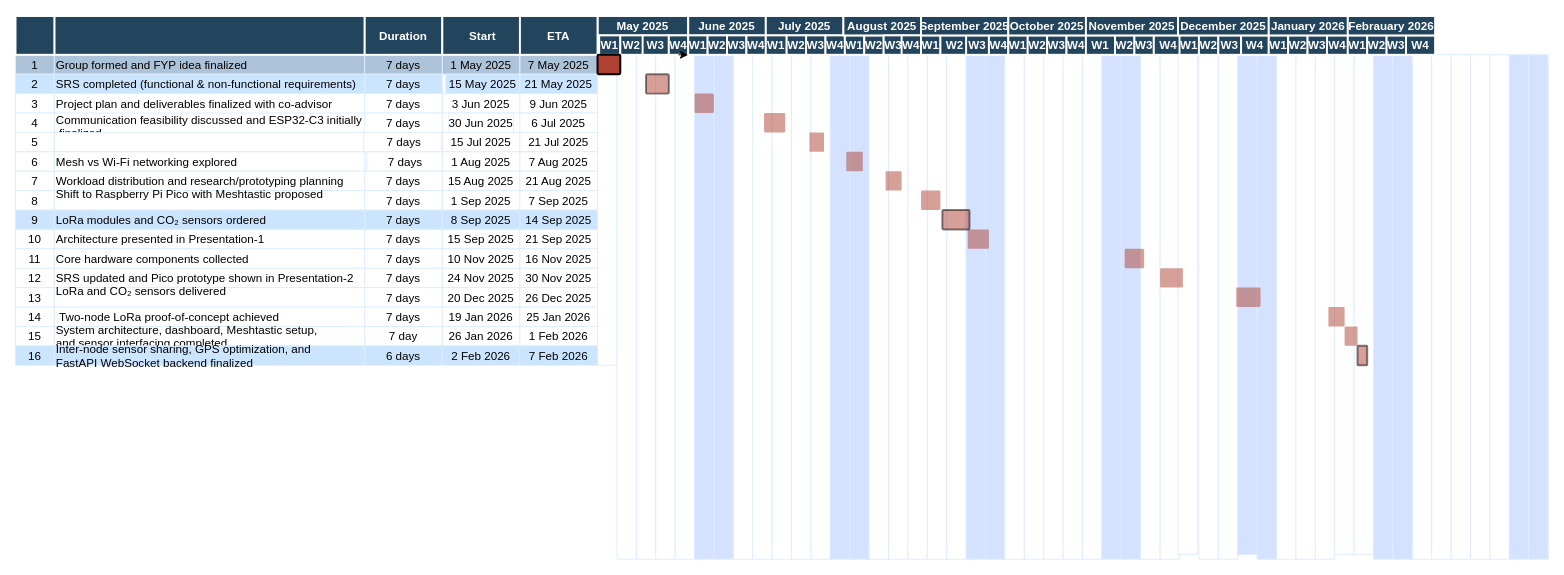
This 1564x575 diagram has some shape labels left out. The shapes that lost their labels are listed below. From the top down, each one's centre as x and y in pixels, then its label:
At (x=209, y=35): "Task Name".
At (x=209, y=141): "Communication approaches brainstormed".
